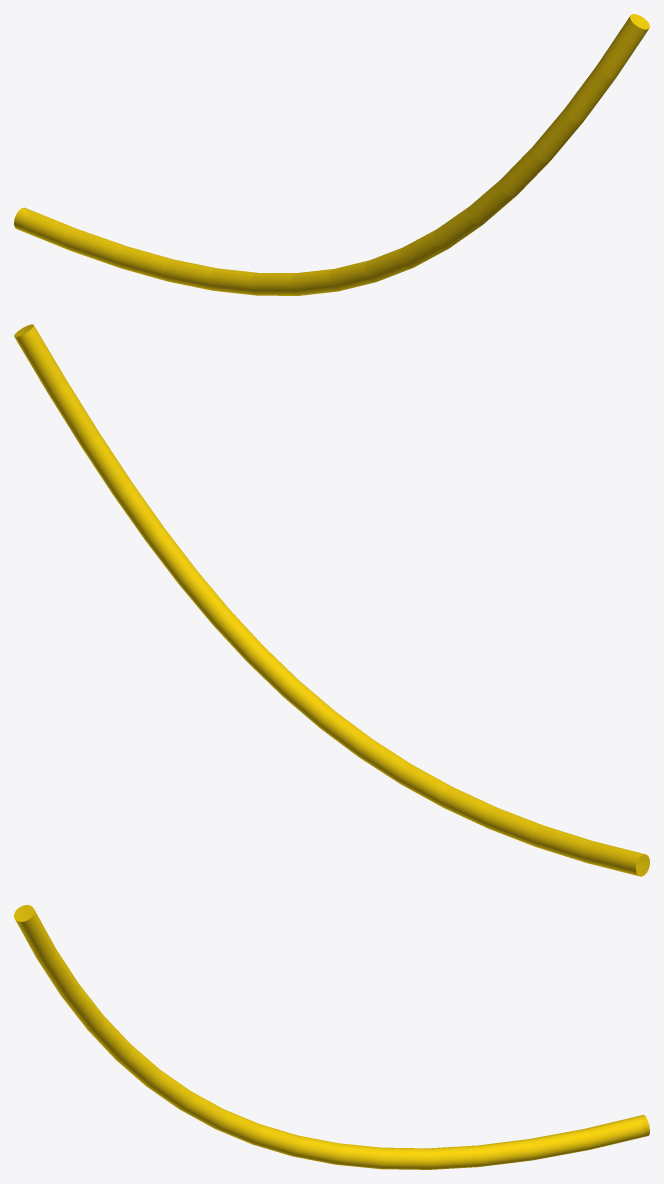
The model's file is Event_421556567_track_32.fbx.
3 renders of one model, top to bottom at view 1: azimuth 30°, elevation 25°; view 2: azimuth 210°, elevation 25°; view 3: azimuth 270°, elevation 25°, orthographic. The views are drawn at different scales.
Parts seen in each view (by area): view 1: Model; view 2: Model; view 3: Model.
Part boxes in pixels (x1,y1,x2,y2): Model: (14, 14, 649, 295); Model: (14, 324, 649, 876); Model: (14, 905, 649, 1169).
Bounding box in the file's own units: 0.6231 × 0.743 × 1.17.
